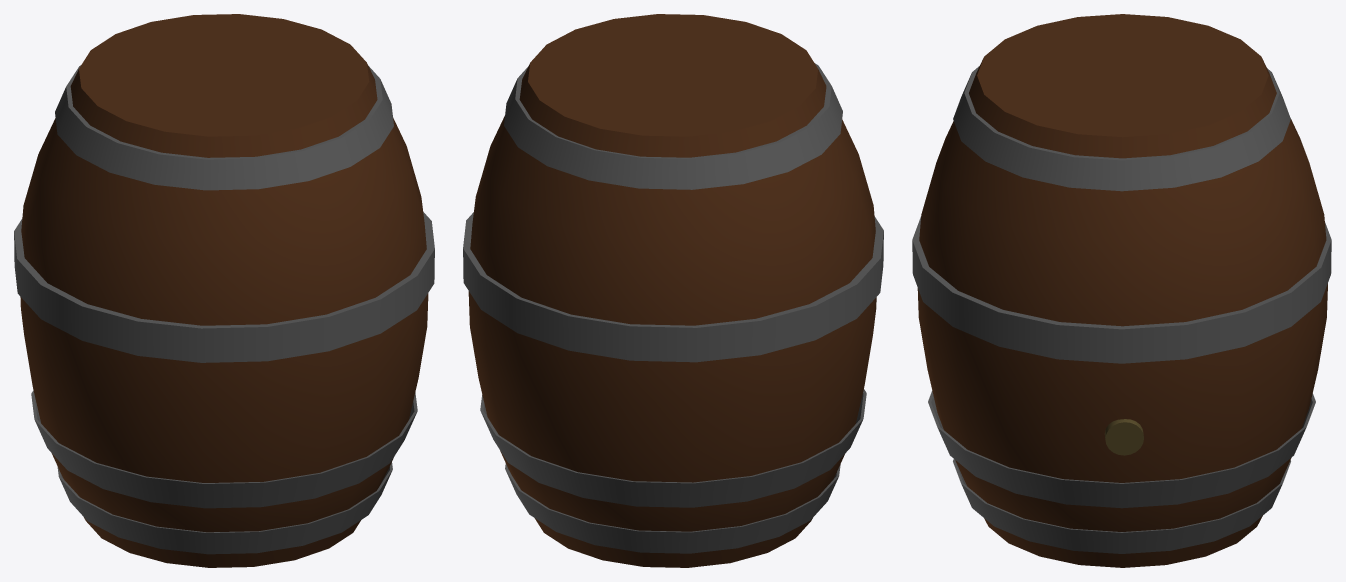
The model's file is Holzfass.fbx.
The picture shows the model from 3 angles, left to right: view 1: azimuth 30°, elevation 25°; view 2: azimuth 150°, elevation 25°; view 3: azimuth 270°, elevation 25°; orthographic projection.
Parts seen in each view (by area): view 1: polySurface6; view 2: polySurface6; view 3: polySurface6.
Part boxes in pixels (<box>): polySurface6: <box>14,14,434,567</box>; polySurface6: <box>463,14,883,567</box>; polySurface6: <box>912,14,1331,567</box>.
Bounding box in the file's own units: 107 × 121 × 106.
